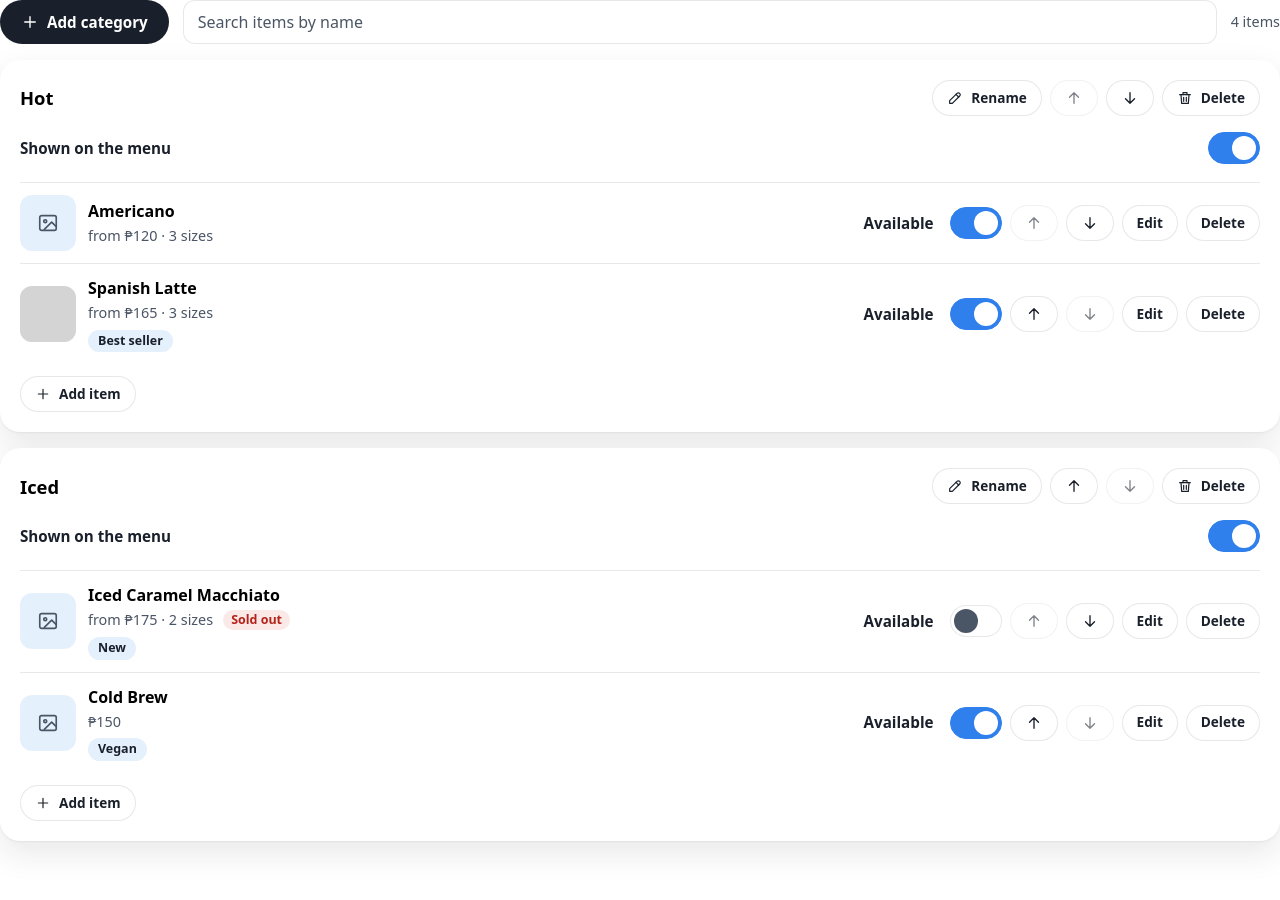
it: Pictures on the Items tab › draws no picture from any other host, in the list or in the editor
Expected: the text "Cold Brew" is shown, [88,686,168,708]
Click the button "Edit" in the row of "Cold Brew" at (1150, 723), box [1122,705,1178,741]
(page scrolled)
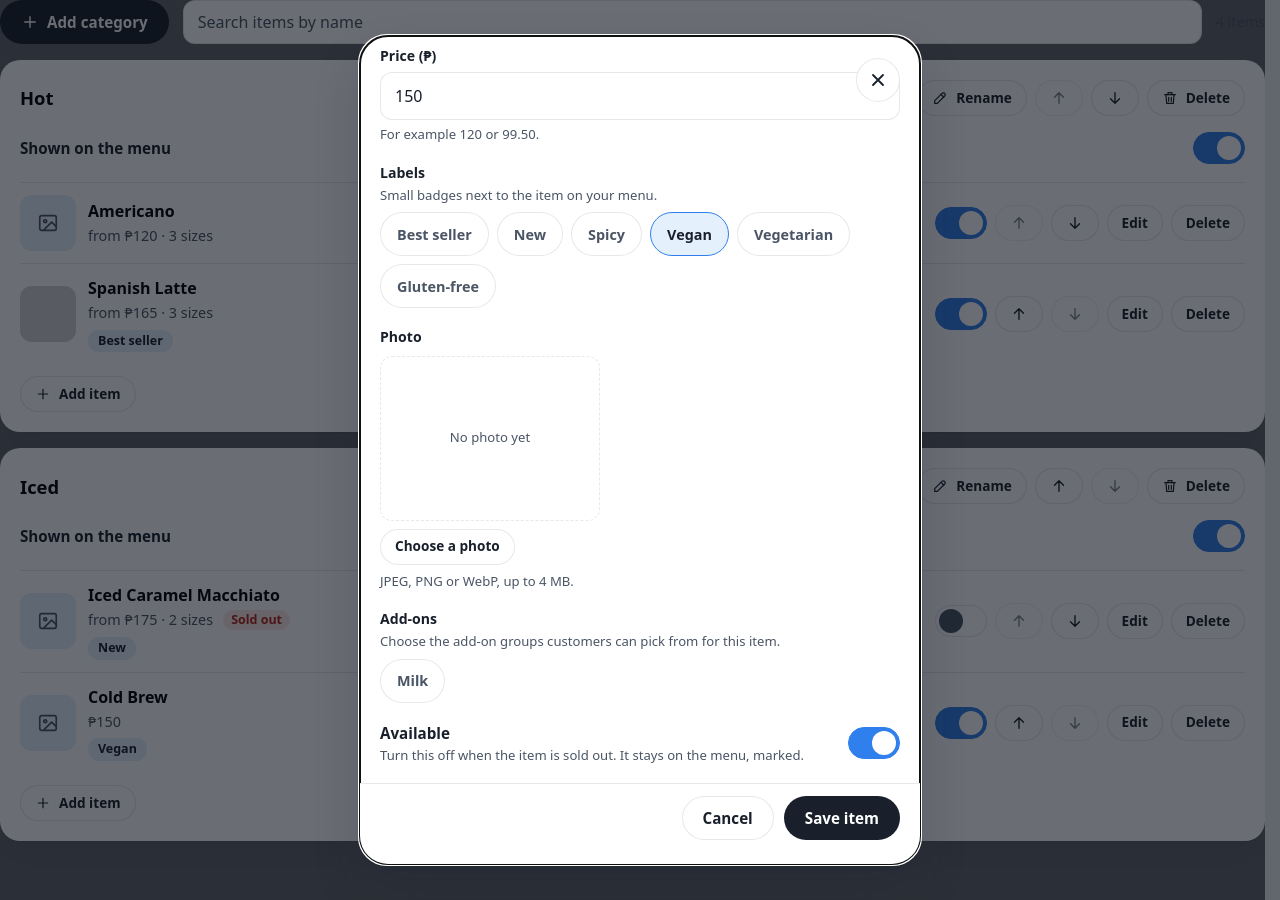
Expected: the button "Choose a photo" is shown, [380,528,515,564]
